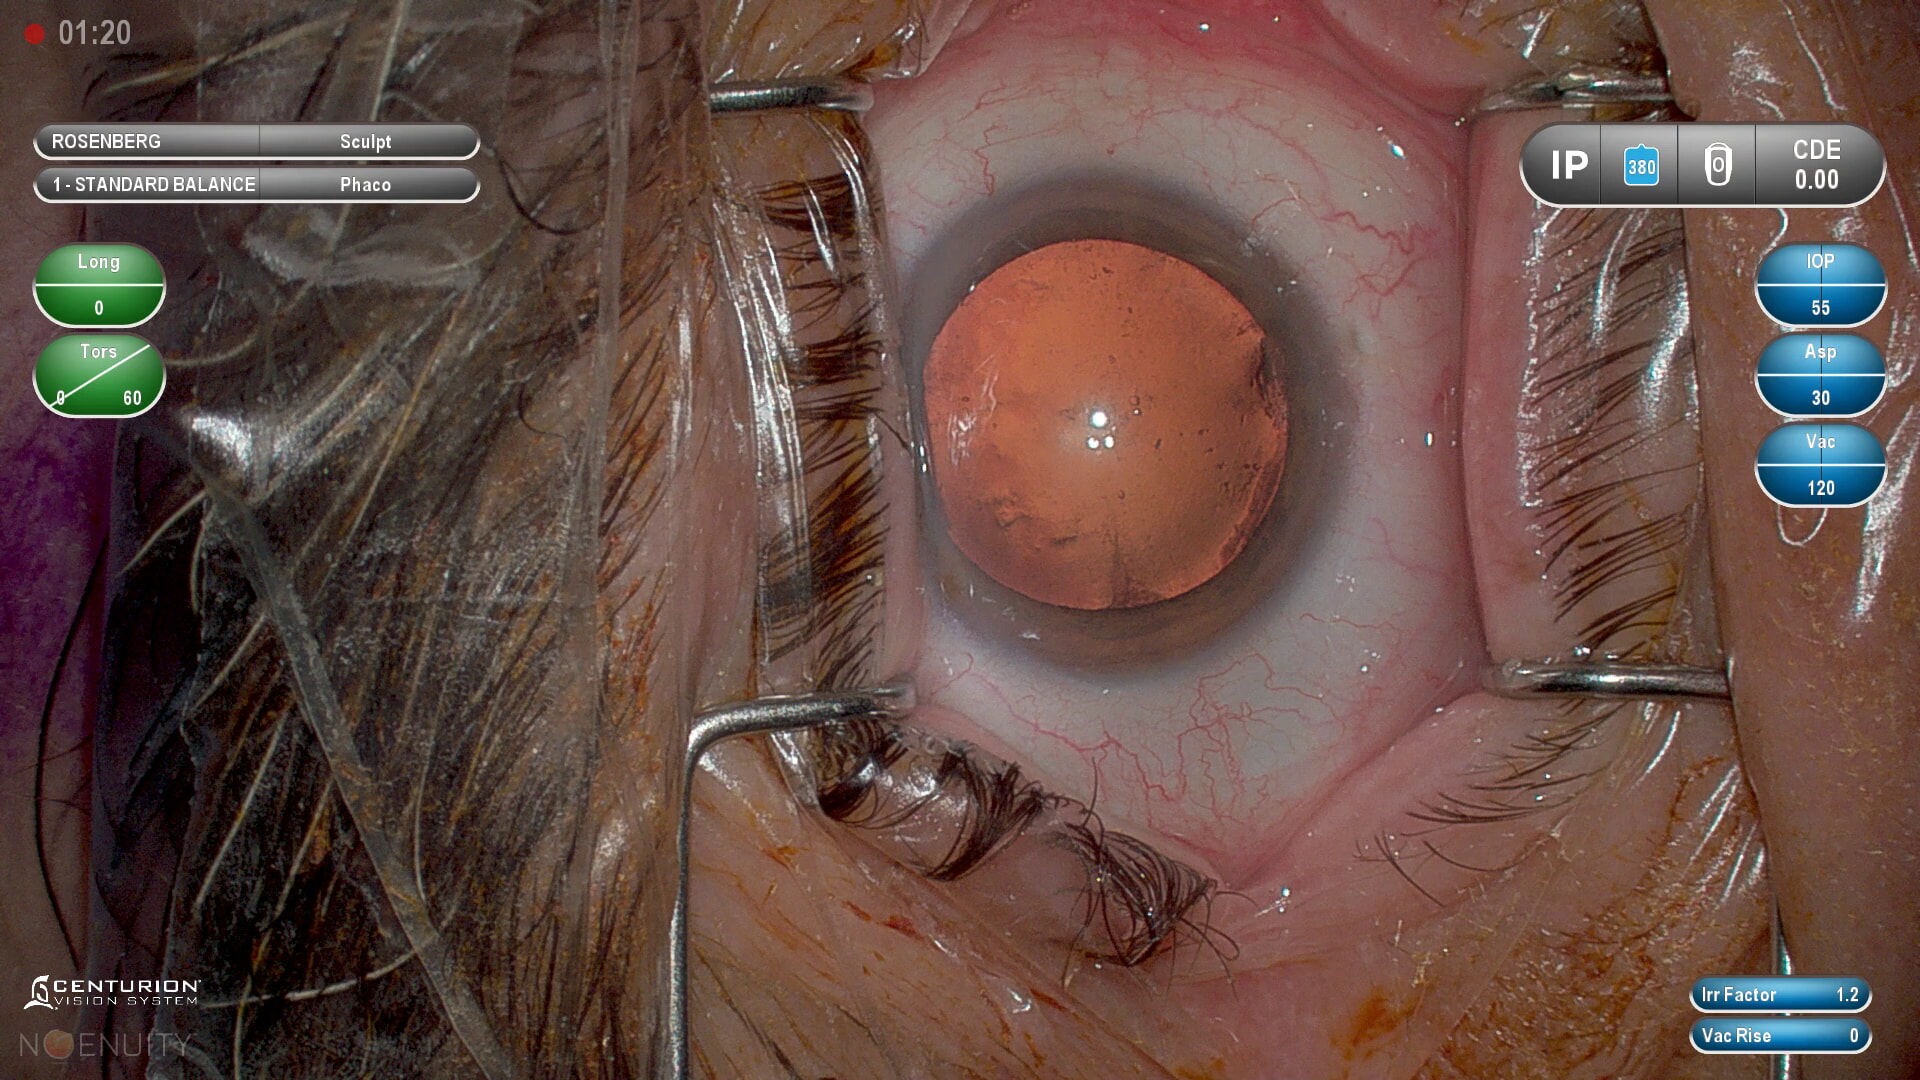iris: (884, 177, 1355, 682)
pupil: (925, 239, 1291, 607)
